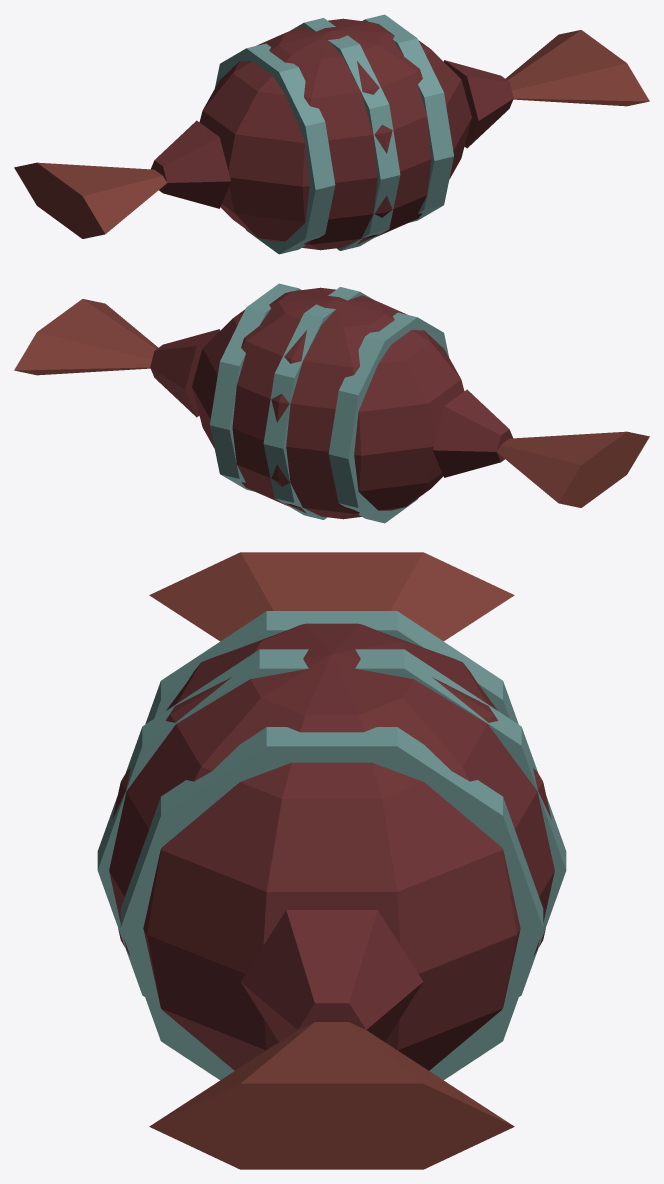
Rendered from bomboana.glb.
The picture shows the model from 3 angles, top to bottom: view 1: azimuth 30°, elevation 25°; view 2: azimuth 150°, elevation 25°; view 3: azimuth 270°, elevation 25°; orthographic projection. The views are drawn at different scales.
Visible parts, largest first — view 1: Ambalaj; view 2: Ambalaj; view 3: Ambalaj.
Part boxes in pixels (x1=…): Ambalaj: x1=14, y1=14, x2=649, y2=254; Ambalaj: x1=14, y1=283, x2=649, y2=523; Ambalaj: x1=97, y1=552, x2=566, y2=1169.
Size of the model in its own units: 0.11 by 0.04 by 0.041.
